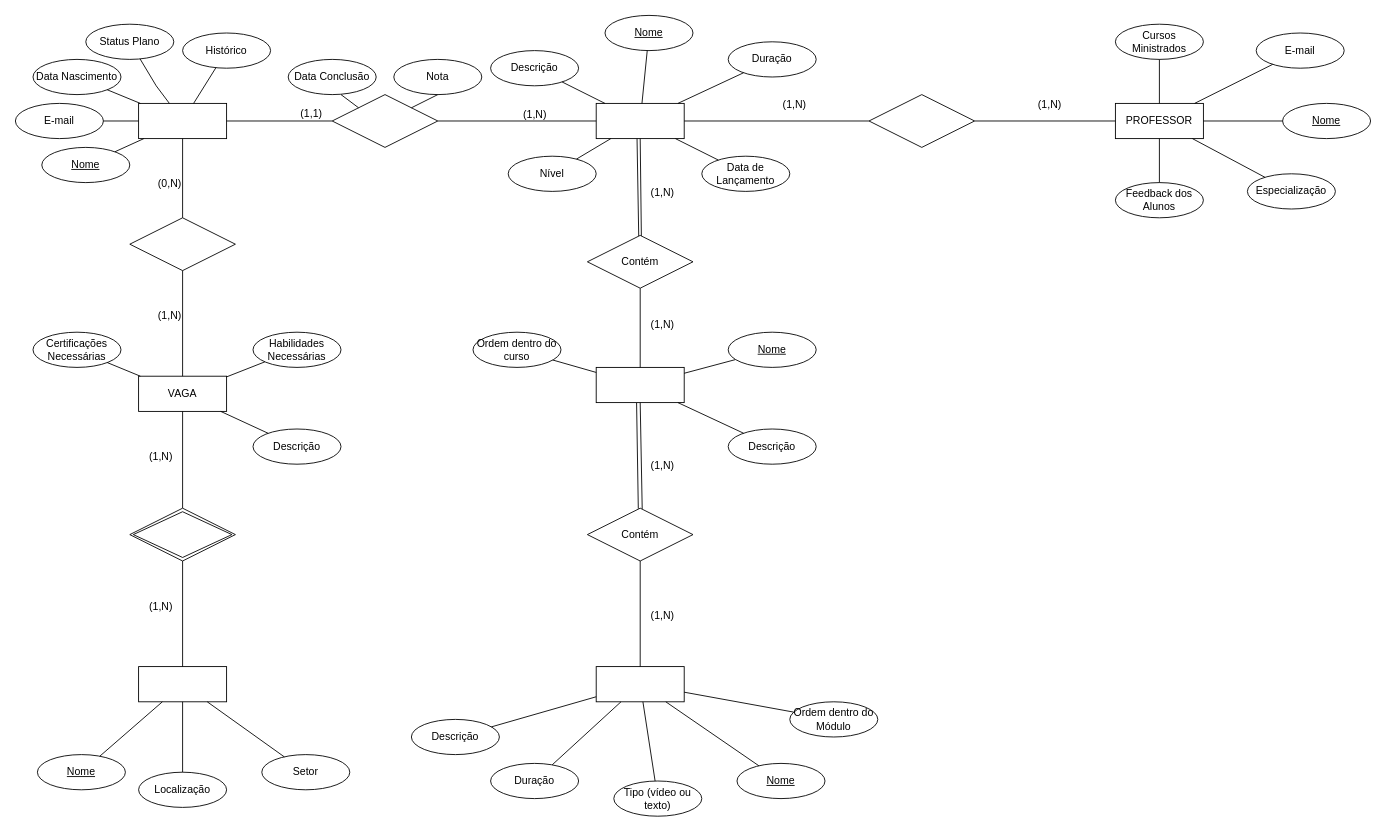
The diagram is 1386 pixels wide and 832 high, and some of its shapes have lost their labels. Here are the shapes that lost their labels. From the top down, the centre of each, then its label:
At (182,121): "ALUNO".
At (384,120): "Estudam".
At (639,121): "CURSO".
At (921,120): "Ministram".
At (182,244): "SE QUALIFICAM".
At (639,385): "MÓDULO".
At (182,534): "Oferecem".
At (182,684): "EMPRESAS".
At (639,684): "AULA".
